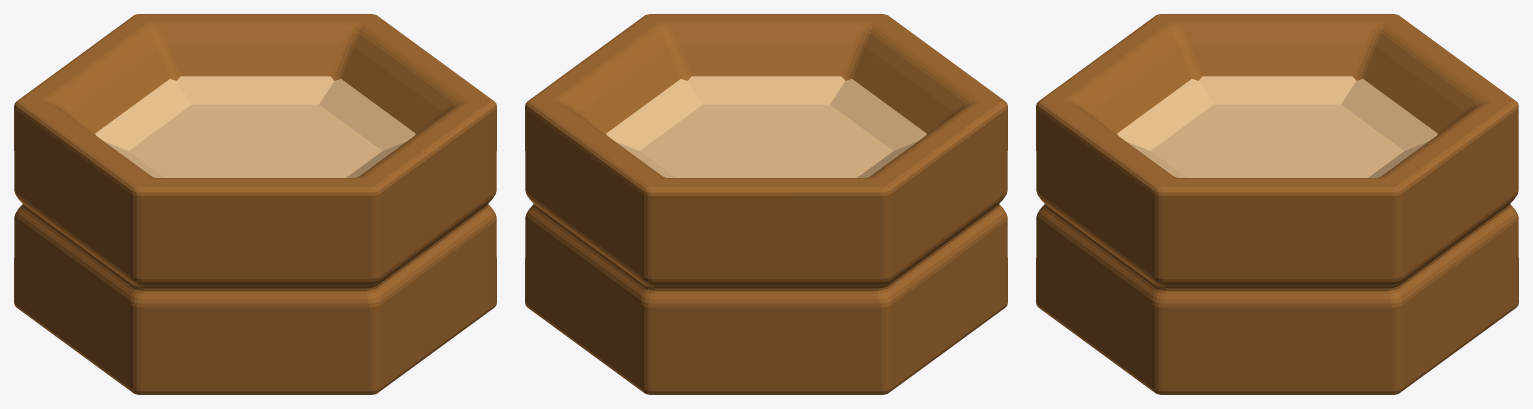
Rendered from my_road.fbx.
3 views of the same model, side by side, from view 1: azimuth 30°, elevation 25°; view 2: azimuth 150°, elevation 25°; view 3: azimuth 270°, elevation 25° (orthographic).
Visible parts, largest first — view 1: Circle.001; view 2: Circle.001; view 3: Circle.001.
Part boxes in pixels (left/top/right/bottom): Circle.001: left=14, top=14, right=496, bottom=394; Circle.001: left=525, top=14, right=1007, bottom=394; Circle.001: left=1036, top=14, right=1518, bottom=394.
Bounding box in the file's own units: 200 × 109 × 229.
